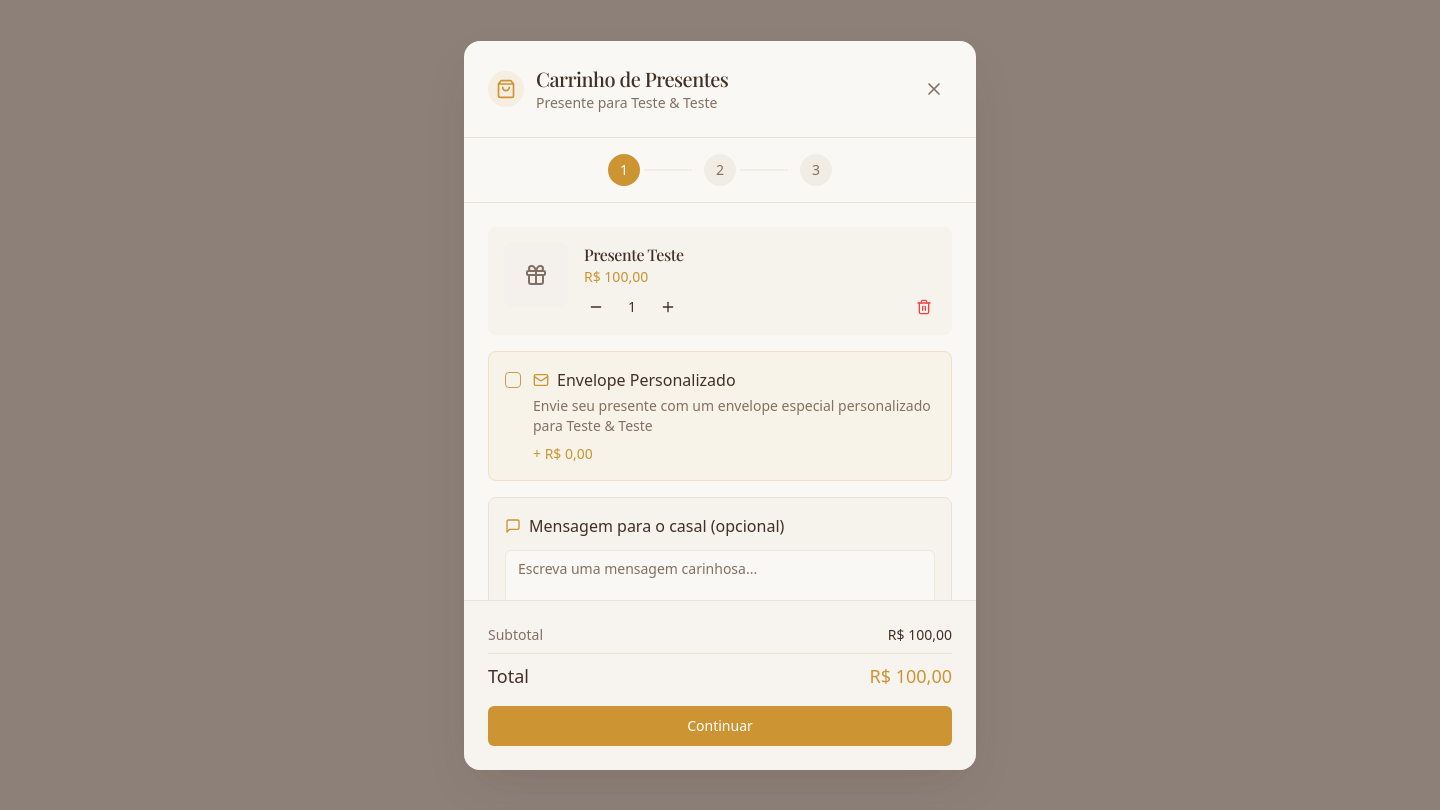
it: CheckoutModal Component › permite avançar para a tela de informações do convidado
Click the button "Continuar" at (720, 726), box x1=488 y1=706 x2=952 y2=746
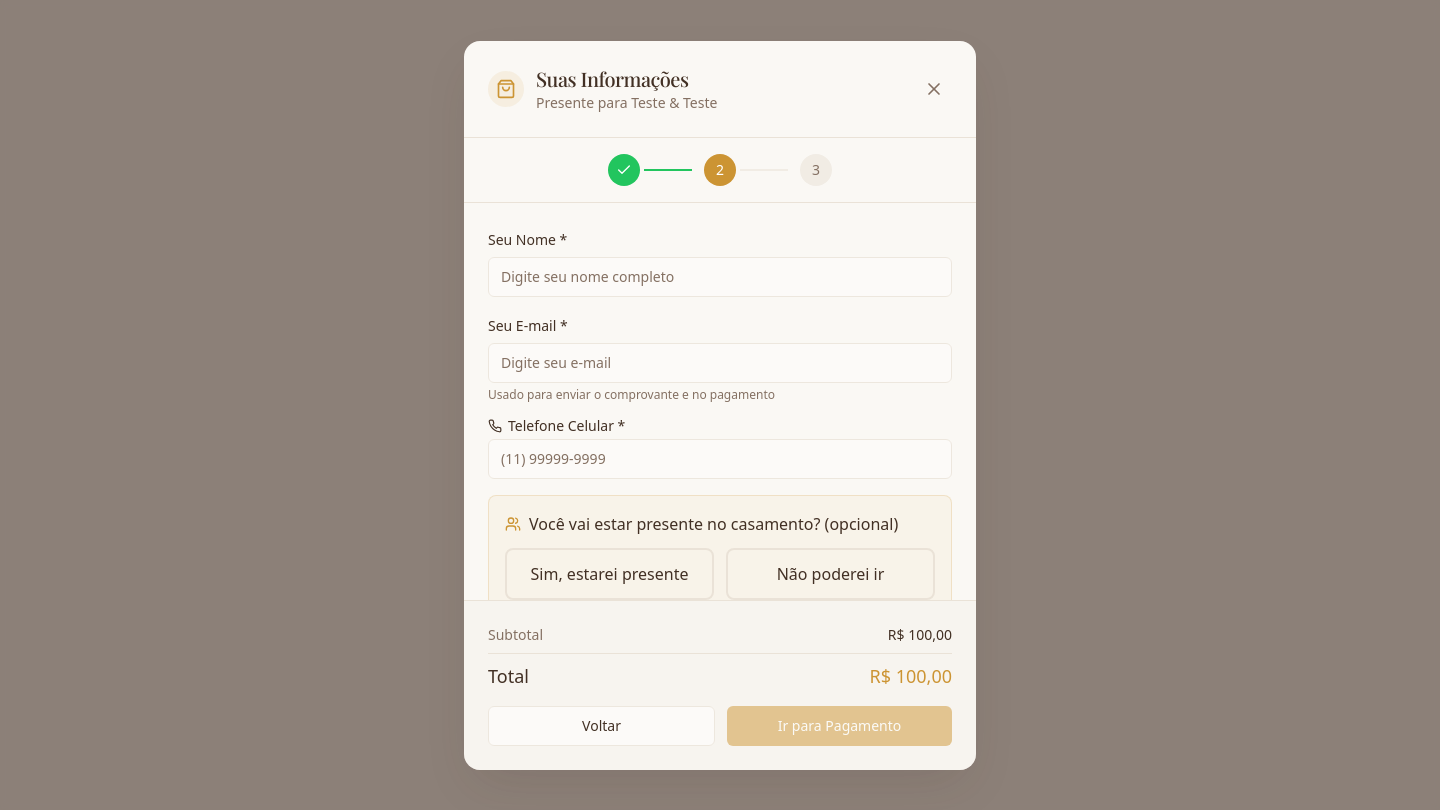
Expected: the heading "Suas Informações" is shown, x1=536 y1=64 x2=688 y2=92
Expected: the field with placeholder "Digite seu nome completo" is shown, x1=488 y1=256 x2=952 y2=296
